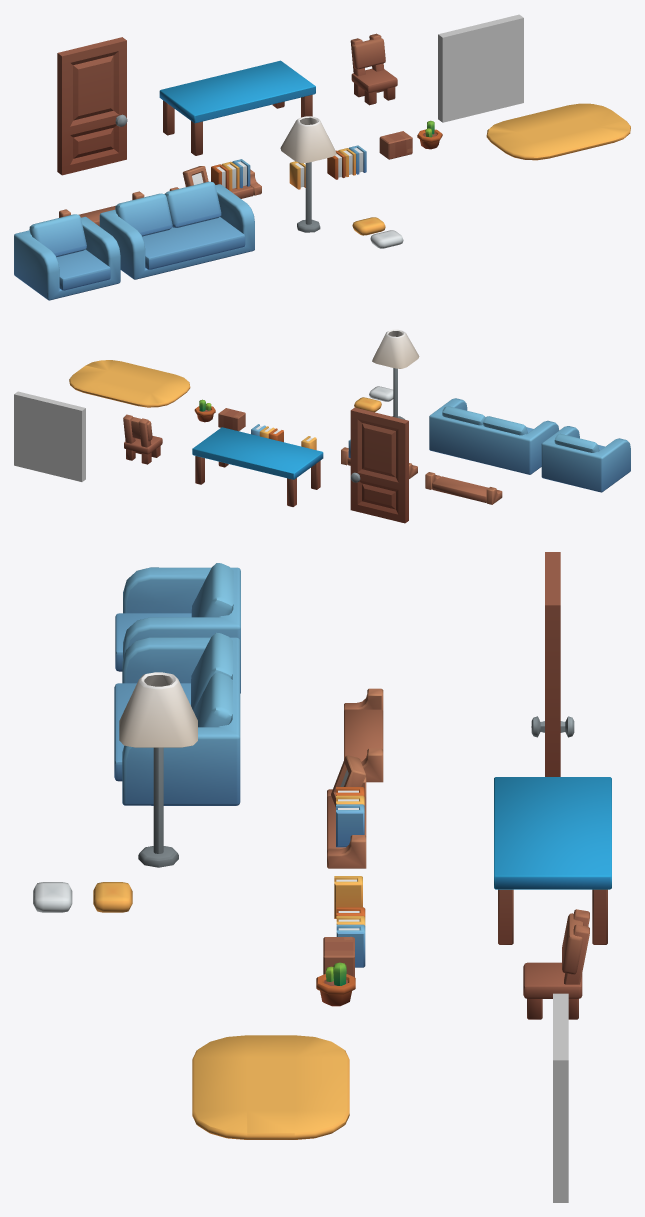
File: Furnitures.glb
3 views of the same model, one above another, from view 1: azimuth 30°, elevation 25°; view 2: azimuth 150°, elevation 25°; view 3: azimuth 270°, elevation 25° (orthographic). The views are drawn at different scales.
Visible parts, largest first — view 1: couch-col, Door_A-col, whiteboard-col, armchair-col, table_medium_long-col, rug_oval_A-col, lamp_standing-col, chair_B_wood-col, shelf_B_large_decorated-col, book_set-col, Box_B, pillow_B-col (+4 smaller); view 2: Door_A-col, couch-col, whiteboard-col, table_medium_long-col, armchair-col, rug_oval_A-col, lamp_standing-col, chair_B_wood-col, shelf_B_large-col, Box_B, book_set-col, cactus_small_A-col (+3 smaller); view 3: couch-col, rug_oval_A-col, table_medium_long-col, armchair-col, lamp_standing-col, Door_A-col, shelf_B_large_decorated-col, chair_B_wood-col, whiteboard-col, shelf_B_large-col, cactus_small_A-col, book_set-col (+4 smaller).
Part boxes in pixels (<box>): couch-col: <box>99,181,254,279</box>; Door_A-col: <box>57,37,127,175</box>; whiteboard-col: <box>438,14,523,122</box>; armchair-col: <box>14,214,120,300</box>; table_medium_long-col: <box>159,60,315,155</box>; rug_oval_A-col: <box>486,103,630,160</box>; lamp_standing-col: <box>280,116,336,232</box>; chair_B_wood-col: <box>350,33,397,105</box>; shelf_B_large_decorated-col: <box>169,159,261,198</box>; book_set-col: <box>327,145,366,179</box>; Box_B: <box>379,131,412,159</box>; pillow_B-col: <box>370,230,403,248</box>; Door_A-col: <box>350,407,408,523</box>; couch-col: <box>429,398,559,474</box>; whiteboard-col: <box>14,391,85,481</box>; table_medium_long-col: <box>192,427,323,506</box>; armchair-col: <box>541,426,630,492</box>; rug_oval_A-col: <box>69,360,190,407</box>; lamp_standing-col: <box>372,329,419,419</box>; chair_B_wood-col: <box>123,414,162,464</box>; shelf_B_large-col: <box>425,472,502,504</box>; Box_B: <box>218,408,245,431</box>; book_set-col: <box>251,424,283,442</box>; cactus_small_A-col: <box>194,399,215,422</box>; couch-col: <box>114,632,240,805</box>; rug_oval_A-col: <box>192,1035,349,1139</box>; table_medium_long-col: <box>494,777,611,944</box>; armchair-col: <box>115,563,240,693</box>; lamp_standing-col: <box>119,672,197,867</box>; Door_A-col: <box>531,552,574,776</box>; shelf_B_large_decorated-col: <box>327,755,366,868</box>; chair_B_wood-col: <box>523,909,589,1019</box>; whiteboard-col: <box>553,993,568,1202</box>; shelf_B_large-col: <box>344,688,383,782</box>; cactus_small_A-col: <box>316,962,355,1006</box>; book_set-col: <box>336,907,365,967</box>.
Size of the model in its own units: 15.15 by 3.8 by 7.36.
16 materials, 16 textured.
